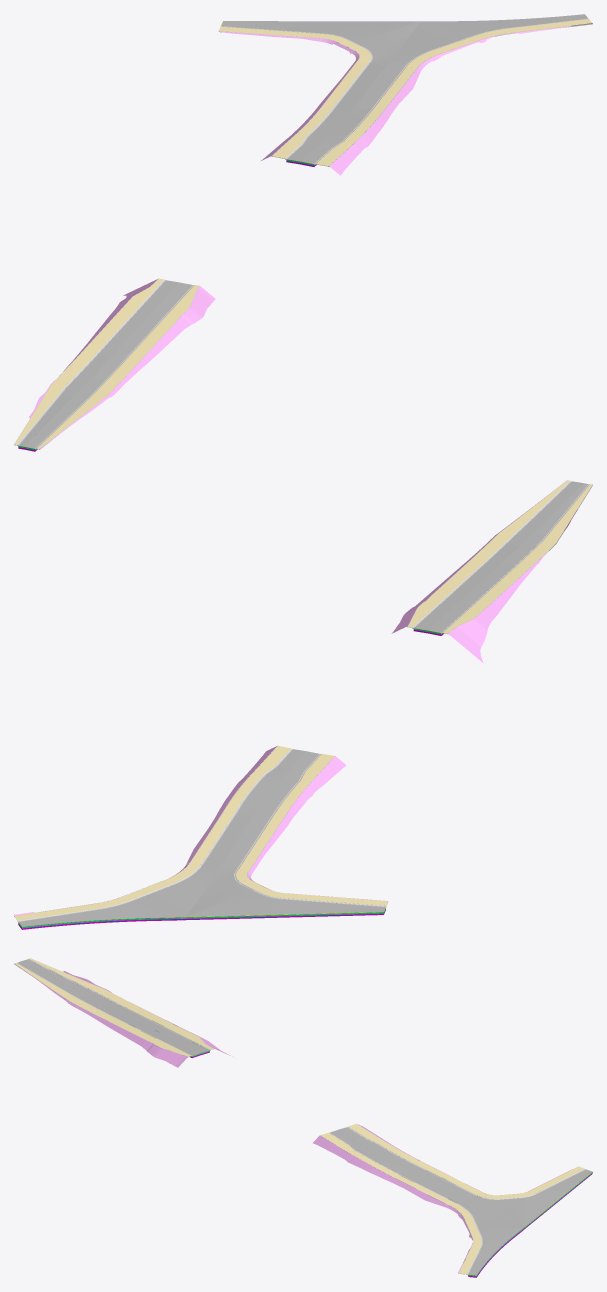
File: sChoDuongDan.glb
3 renders of one model, top to bottom at view 1: azimuth 30°, elevation 25°; view 2: azimuth 210°, elevation 25°; view 3: azimuth 270°, elevation 25°, orthographic. The views are drawn at different scales.
Parts seen in each view (by area): view 1: IfcBuildingElementProxy/Unnamed.009, IfcBuildingElementProxy/Unnamed.004, IfcBuildingElementProxy/Unnamed, IfcBuildingElementProxy/Unnamed.001, IfcBuildingElementProxy/Unnamed.022, IfcBuildingElementProxy/Unnamed.020, IfcBuildingElementProxy/Unnamed.006, IfcBuildingElementProxy/Unnamed.005, IfcBuildingElementProxy/Unnamed.037, IfcBuildingElementProxy/Unnamed.047, IfcBuildingElementProxy/Unnamed.040, IfcBuildingElementProxy/Unnamed.055 (+3 smaller); view 2: IfcBuildingElementProxy/Unnamed.009, IfcBuildingElementProxy/Unnamed.004, IfcBuildingElementProxy/Unnamed, IfcBuildingElementProxy/Unnamed.001, IfcBuildingElementProxy/Unnamed.005, IfcBuildingElementProxy/Unnamed.006, IfcBuildingElementProxy/Unnamed.020, IfcBuildingElementProxy/Unnamed.022, IfcBuildingElementProxy/Unnamed.039, IfcBuildingElementProxy/Unnamed.040, IfcBuildingElementProxy/Unnamed.055, IfcBuildingElementProxy/Unnamed.051 (+3 smaller); view 3: IfcBuildingElementProxy/Unnamed.009, IfcBuildingElementProxy/Unnamed.004, IfcBuildingElementProxy/Unnamed, IfcBuildingElementProxy/Unnamed.001, IfcBuildingElementProxy/Unnamed.006, IfcBuildingElementProxy/Unnamed.005, IfcBuildingElementProxy/Unnamed.022, IfcBuildingElementProxy/Unnamed.020, IfcBuildingElementProxy/Unnamed.037, IfcBuildingElementProxy/Unnamed.047, IfcBuildingElementProxy/Unnamed.055, IfcBuildingElementProxy/Unnamed.040 (+2 smaller).
Boxes of the visible parts, x1,y1,x2,y2 form: IfcBuildingElementProxy/Unnamed.009: [221, 21, 420, 64]; IfcBuildingElementProxy/Unnamed.004: [387, 14, 587, 67]; IfcBuildingElementProxy/Unnamed: [24, 282, 192, 448]; IfcBuildingElementProxy/Unnamed.001: [19, 280, 178, 446]; IfcBuildingElementProxy/Unnamed.022: [14, 278, 163, 444]; IfcBuildingElementProxy/Unnamed.020: [37, 285, 198, 448]; IfcBuildingElementProxy/Unnamed.006: [300, 65, 403, 164]; IfcBuildingElementProxy/Unnamed.005: [287, 63, 386, 161]; IfcBuildingElementProxy/Unnamed.037: [40, 286, 215, 448]; IfcBuildingElementProxy/Unnamed.047: [329, 69, 420, 175]; IfcBuildingElementProxy/Unnamed.040: [316, 67, 416, 166]; IfcBuildingElementProxy/Unnamed.055: [272, 61, 367, 158]; IfcBuildingElementProxy/Unnamed.009: [186, 867, 385, 917]; IfcBuildingElementProxy/Unnamed.004: [18, 865, 219, 926]; IfcBuildingElementProxy/Unnamed: [414, 481, 582, 630]; IfcBuildingElementProxy/Unnamed.001: [427, 483, 587, 632]; IfcBuildingElementProxy/Unnamed.005: [220, 751, 319, 869]; IfcBuildingElementProxy/Unnamed.006: [203, 749, 306, 866]; IfcBuildingElementProxy/Unnamed.020: [408, 480, 569, 627]; IfcBuildingElementProxy/Unnamed.022: [443, 484, 592, 633]; IfcBuildingElementProxy/Unnamed.039: [448, 551, 548, 662]; IfcBuildingElementProxy/Unnamed.040: [190, 746, 290, 864]; IfcBuildingElementProxy/Unnamed.055: [239, 754, 334, 870]; IfcBuildingElementProxy/Unnamed.051: [250, 756, 346, 872]; IfcBuildingElementProxy/Unnamed.009: [466, 1169, 592, 1227]; IfcBuildingElementProxy/Unnamed.004: [457, 1199, 523, 1275]; IfcBuildingElementProxy/Unnamed: [17, 960, 200, 1055]; IfcBuildingElementProxy/Unnamed.001: [24, 959, 208, 1052]; IfcBuildingElementProxy/Unnamed.006: [330, 1130, 465, 1202]; IfcBuildingElementProxy/Unnamed.005: [338, 1127, 474, 1198]; IfcBuildingElementProxy/Unnamed.022: [29, 958, 213, 1049]; IfcBuildingElementProxy/Unnamed.020: [15, 963, 190, 1056]; IfcBuildingElementProxy/Unnamed.037: [14, 963, 187, 1067]; IfcBuildingElementProxy/Unnamed.047: [313, 1135, 448, 1207]; IfcBuildingElementProxy/Unnamed.055: [348, 1124, 481, 1194]; IfcBuildingElementProxy/Unnamed.040: [320, 1133, 454, 1205].
Bounding box in the file's own units: 324 × 8.35 × 253.
